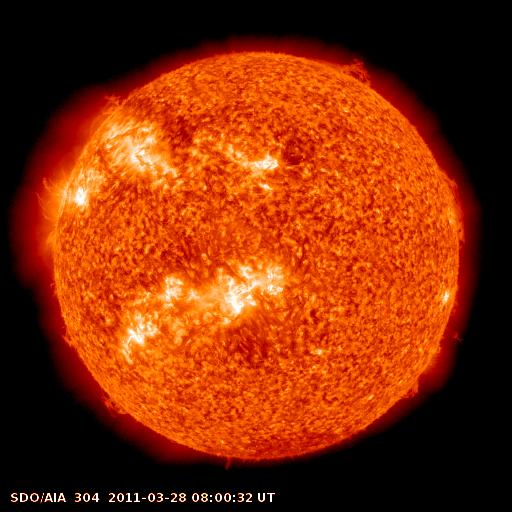prominence: (434, 165, 471, 255), (79, 83, 136, 137), (425, 299, 469, 358), (328, 49, 385, 92), (93, 381, 138, 426), (389, 370, 432, 409), (51, 316, 84, 358), (210, 446, 246, 479)
